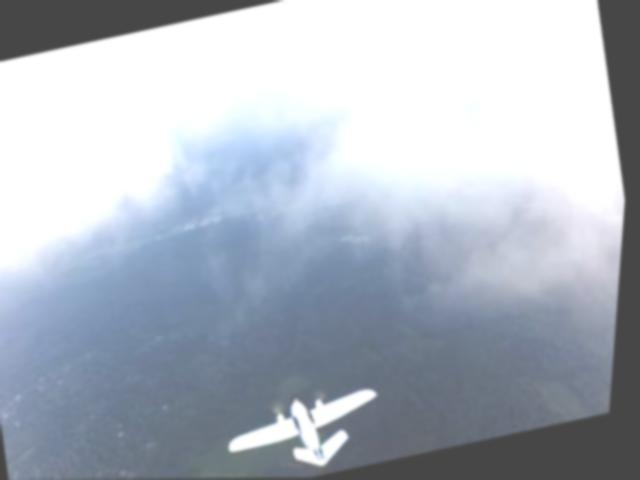uav: (222, 378, 399, 479)
